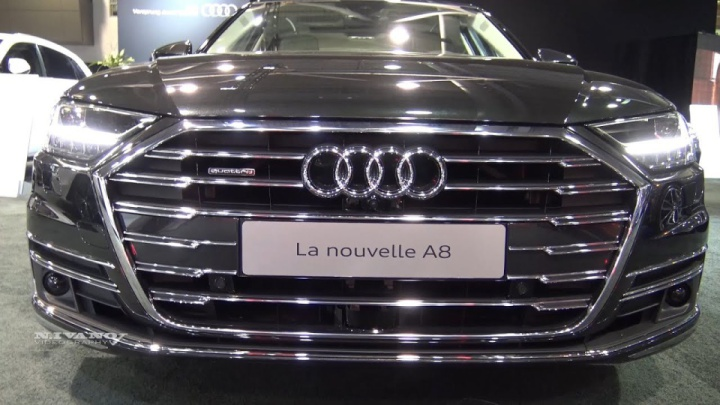audi: (297, 141, 448, 202)
